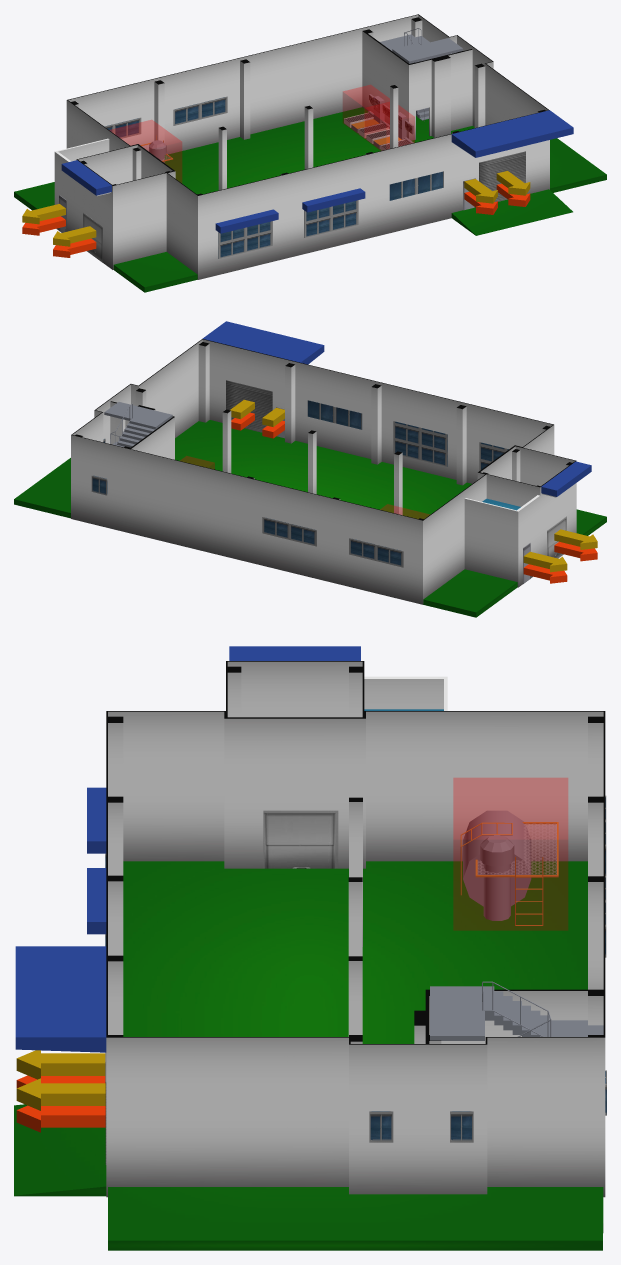
Rendered from soulbrain_T2-8-1F.glb.
3 renders of one model, top to bottom at view 1: azimuth 30°, elevation 25°; view 2: azimuth 150°, elevation 25°; view 3: azimuth 270°, elevation 25°, orthographic. The views are drawn at different scales.
Parts seen in each view (by area): view 1: T2-8-1F, Line001, Box105, equipment-T2-8-1F-002, equipment-T2-8-1F-001, equipment-T2-8-1F-003, Box111, Box2216, Box2215, arrow_Y_4_T2-8-1F, arrow_Y_3_T2-8-1F, arrow_Y_1_T2-8-1F (+5 smaller); view 2: T2-8-1F, Line001, Box105, Box111, arrow_Y_4_T2-8-1F, arrow_Y_3_T2-8-1F, arrow_R_3_T2-8-1F, arrow_R_4_T2-8-1F; view 3: T2-8-1F, Line001, equipment-T2-8-1F-001, Rectangle1100, Box105, Box111, arrow_Y_1_T2-8-1F, arrow_Y_2_T2-8-1F, arrow_R_1_T2-8-1F.
Part boxes in pixels (bbox=[...]): T2-8-1F: bbox=[54, 14, 573, 279]; Line001: bbox=[14, 107, 606, 292]; Box105: bbox=[59, 96, 475, 262]; equipment-T2-8-1F-002: bbox=[343, 85, 389, 138]; equipment-T2-8-1F-001: bbox=[110, 120, 181, 182]; equipment-T2-8-1F-003: bbox=[365, 102, 414, 150]; Box111: bbox=[380, 34, 462, 120]; Box2216: bbox=[344, 94, 389, 138]; Box2215: bbox=[366, 112, 413, 150]; arrow_Y_4_T2-8-1F: bbox=[22, 204, 65, 224]; arrow_Y_3_T2-8-1F: bbox=[53, 226, 96, 246]; arrow_Y_1_T2-8-1F: bbox=[496, 171, 530, 195]; T2-8-1F: bbox=[71, 321, 591, 604]; Line001: bbox=[14, 420, 606, 617]; Box105: bbox=[91, 400, 566, 583]; Box111: bbox=[104, 402, 172, 447]; arrow_Y_4_T2-8-1F: bbox=[523, 551, 567, 572]; arrow_Y_3_T2-8-1F: bbox=[554, 529, 597, 549]; arrow_R_3_T2-8-1F: bbox=[554, 541, 597, 561]; arrow_R_4_T2-8-1F: bbox=[523, 564, 567, 583]; T2-8-1F: bbox=[15, 646, 605, 1197]; Line001: bbox=[14, 861, 603, 1250]; equipment-T2-8-1F-001: bbox=[453, 778, 567, 930]; Rectangle1100: bbox=[460, 810, 558, 925]; Box105: bbox=[105, 795, 606, 1142]; Box111: bbox=[430, 986, 603, 1040]; arrow_Y_1_T2-8-1F: bbox=[16, 1078, 105, 1110]; arrow_Y_2_T2-8-1F: bbox=[16, 1050, 105, 1079]; arrow_R_1_T2-8-1F: bbox=[16, 1105, 105, 1132].
Bounding box in the file's own units: 32.35 × 6.07 × 17.35.
22 materials, 17 textured.
